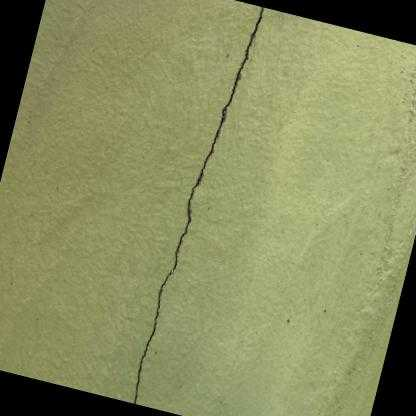crack: (131, 6, 266, 405)
